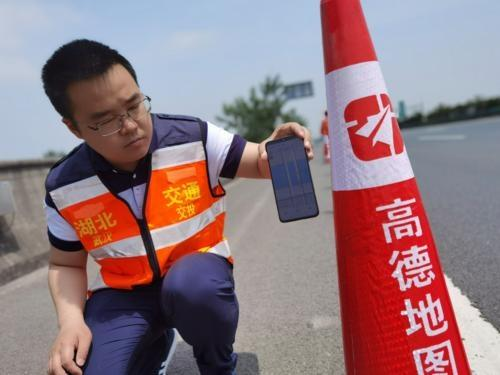cone_barrel: (303, 11, 464, 373)
